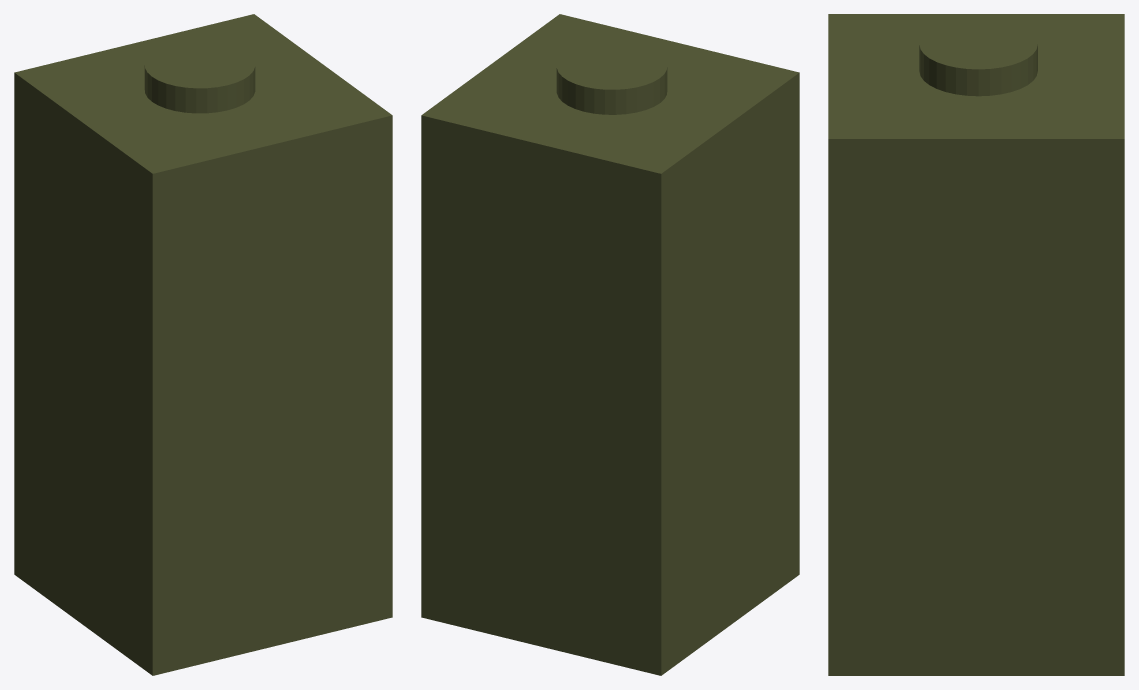
Rendered from lidar_link.dae.
3 views of the same model, side by side, from view 1: azimuth 30°, elevation 25°; view 2: azimuth 150°, elevation 25°; view 3: azimuth 270°, elevation 25° (orthographic). The views are drawn at different scales.
Visible parts, largest first — view 1: lidar_link; view 2: lidar_link; view 3: lidar_link.
Part boxes in pixels (left/top/right/bottom): lidar_link: left=14, top=14, right=392, bottom=675; lidar_link: left=421, top=14, right=799, bottom=675; lidar_link: left=828, top=14, right=1124, bottom=675.
Size of the model in its own units: 0.2 by 0.2 by 0.423.
